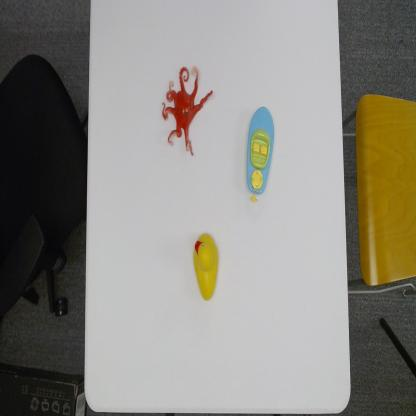Boat: (245, 105, 276, 202)
Duck: (192, 228, 221, 304)
Octopus: (160, 64, 212, 154)
